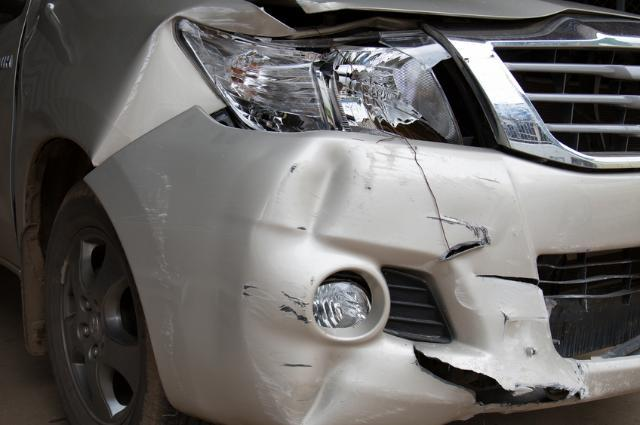Bonnet: (240, 0, 640, 34)
Bumper: (84, 102, 595, 425)
